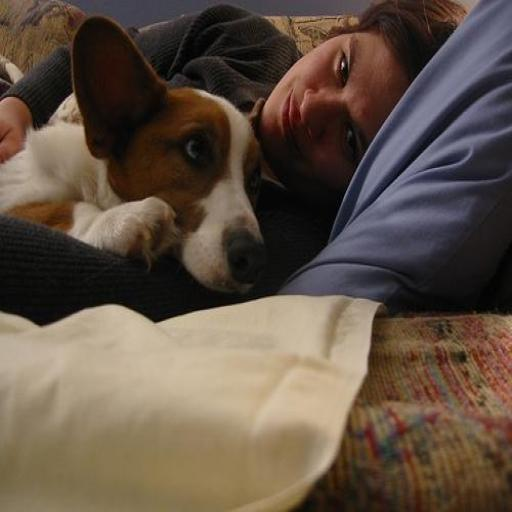dog_face: (72, 19, 282, 290)
